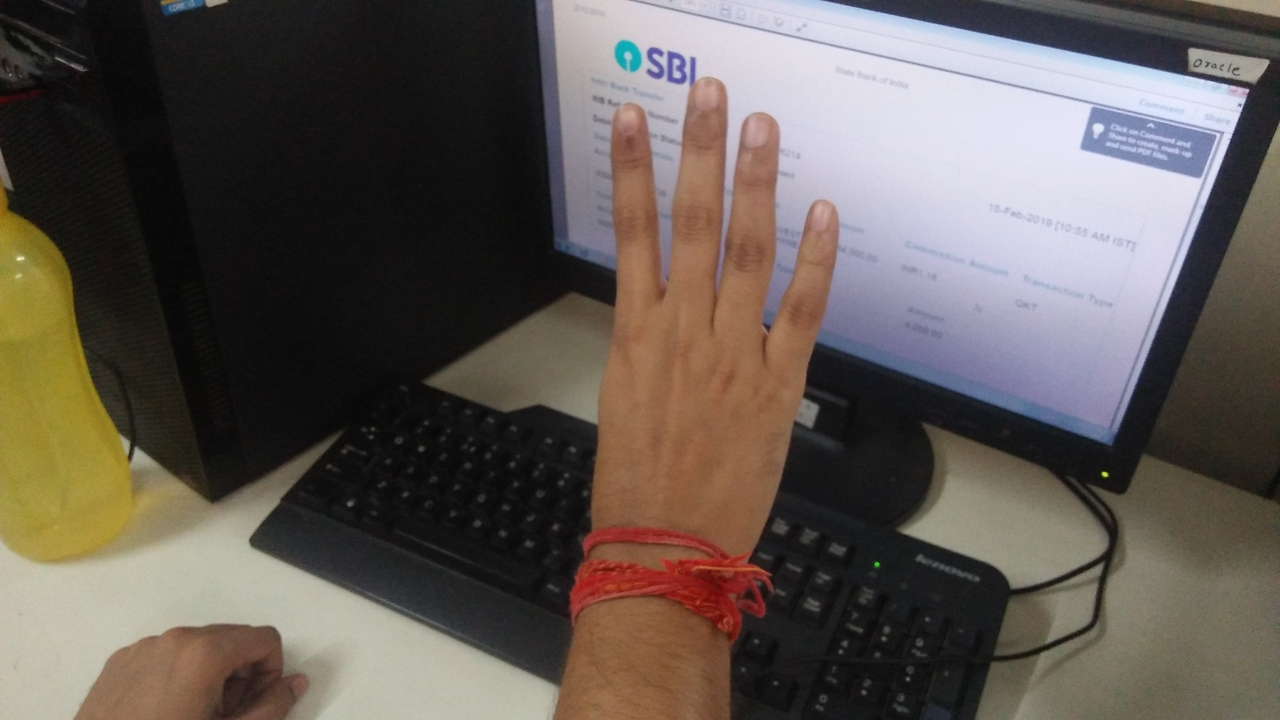fingertip: (680, 68, 734, 116), (730, 106, 784, 154), (604, 94, 658, 140), (796, 190, 846, 238)
